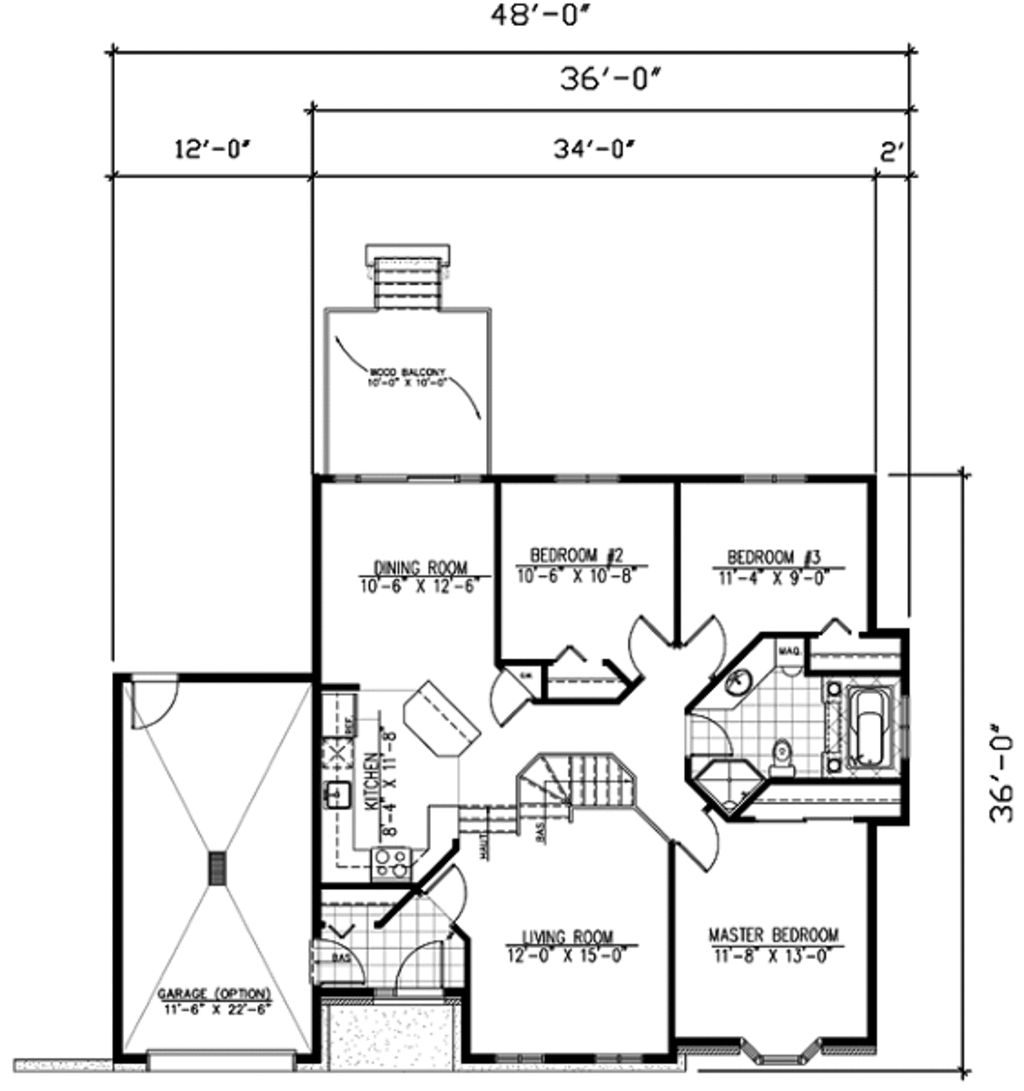door: (125, 666, 184, 741), (417, 863, 480, 930), (385, 938, 449, 1000), (617, 613, 672, 680), (677, 613, 732, 676), (672, 710, 739, 760), (674, 816, 727, 876), (309, 936, 365, 991), (484, 671, 529, 728)
large_sink: (767, 726, 804, 783)
sink: (325, 776, 359, 815)
small_sink: (717, 659, 765, 699)
stairs: (455, 743, 627, 850), (357, 235, 469, 345)
tub: (845, 686, 895, 776)
window: (557, 464, 625, 493), (747, 465, 805, 488), (490, 1048, 547, 1070), (590, 1051, 650, 1070)
